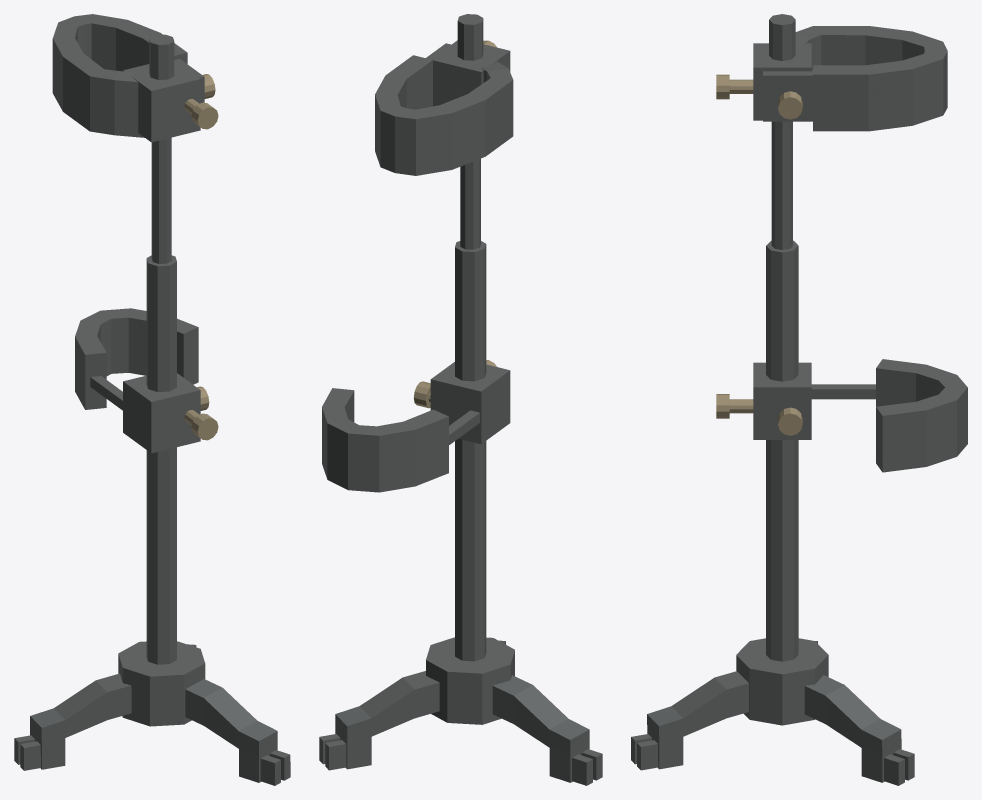
File: trup_holder.fbx
3 renders of one model, left to right at view 1: azimuth 30°, elevation 25°; view 2: azimuth 150°, elevation 25°; view 3: azimuth 270°, elevation 25°, orthographic. The views are drawn at different scales.
Parts seen in each view (by area): view 1: Cube, Cylinder.014, Cylinder.004, Cylinder.013, Cylinder.011, Cube.001, Cylinder.005, Cube.002, Cylinder.006, Cylinder.012, Cube.003, Cylinder.010 (+1 smaller); view 2: Cylinder.014, Cube, Cylinder.013, Cylinder.004, Cylinder.011, Cylinder.005, Cube.001, Cube.002, Cylinder.006, Cylinder.012, Cube.003; view 3: Cylinder.014, Cube, Cylinder.013, Cylinder.004, Cylinder.011, Cylinder.005, Cube.001, Cylinder.006, Cube.004, Cube.002, Cylinder.012, Cube.003 (+2 smaller).
Boxes of the visible parts, x1,y1,x2,y2 form: Cube: (14,644,290,785); Cylinder.014: (52,14,187,137); Cylinder.004: (146,447,176,664); Cylinder.013: (75,308,198,409); Cylinder.011: (118,641,205,726); Cube.001: (123,373,200,453); Cylinder.005: (146,255,176,391); Cube.002: (123,60,200,142); Cylinder.006: (151,137,171,263); Cylinder.012: (149,34,174,79); Cube.003: (90,376,122,410); Cylinder.010: (191,102,218,129); Cylinder.014: (375,55,513,175); Cube: (319,640,602,785); Cylinder.013: (322,388,448,492); Cylinder.004: (455,439,486,661); Cylinder.011: (426,637,514,724); Cylinder.005: (455,241,486,381); Cube.001: (430,362,510,444); Cube.002: (431,40,510,106); Cylinder.006: (460,158,480,249); Cylinder.012: (457,14,483,60); Cube.003: (449,410,479,444); Cylinder.014: (795,26,947,131); Cube: (631,641,914,785); Cylinder.013: (876,359,967,472); Cylinder.004: (766,440,798,661); Cylinder.011: (736,638,828,725); Cylinder.005: (766,240,798,381); Cube.001: (753,362,811,439); Cylinder.006: (771,121,792,249); Cube.004: (763,71,812,121); Cube.002: (753,43,811,120); Cylinder.012: (769,14,795,60); Cube.003: (811,384,875,399).
Bounding box in the file's own units: 0.5843 × 1.75 × 0.7411.
